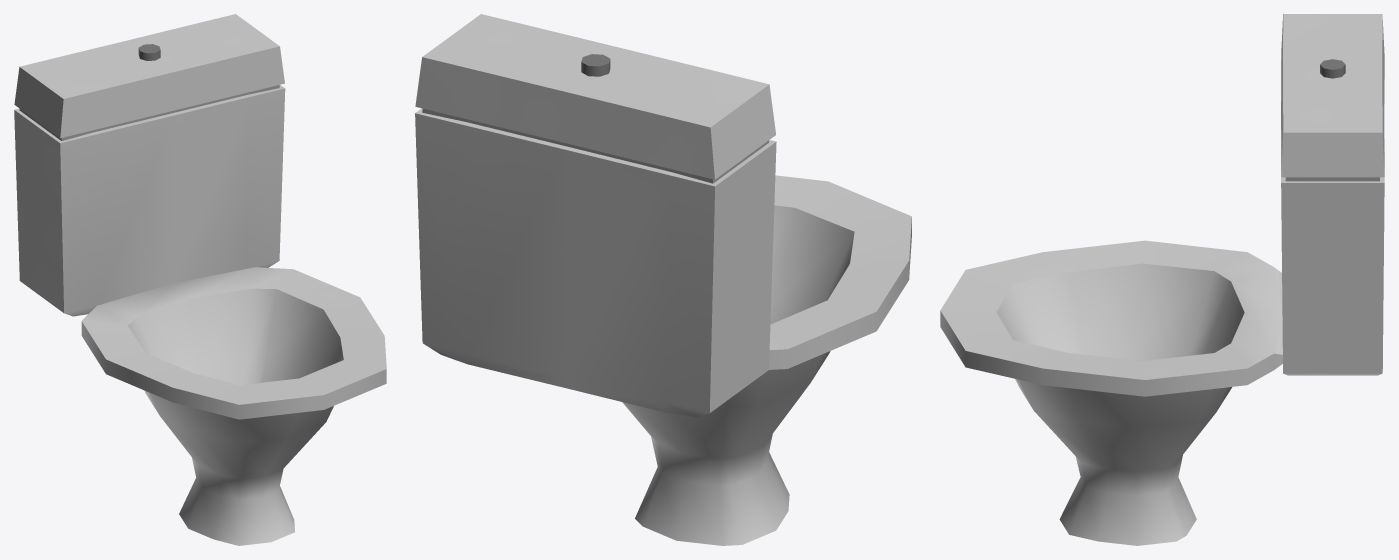
The model's file is Toilet.fbx.
3 renders of one model, left to right at view 1: azimuth 30°, elevation 25°; view 2: azimuth 150°, elevation 25°; view 3: azimuth 270°, elevation 25°, orthographic. The views are drawn at different scales.
Parts seen in each view (by area): view 1: Toilet; view 2: Toilet; view 3: Toilet.
Part boxes in pixels (box(x1,y1,x2,y2)): Toilet: box(14, 14, 386, 545); Toilet: box(415, 14, 911, 545); Toilet: box(940, 14, 1384, 545).
Bounding box in the file's own units: 0.5402 × 0.8211 × 0.7268.
